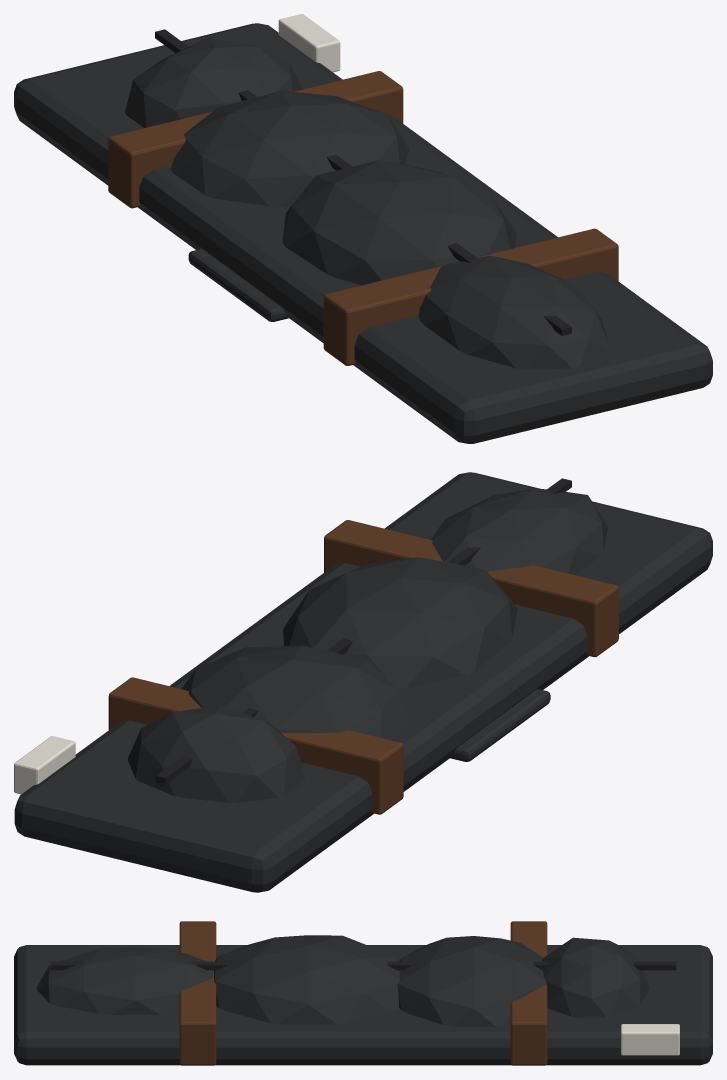
File: body_bag.glb
The picture shows the model from 3 angles, top to bottom: view 1: azimuth 30°, elevation 25°; view 2: azimuth 150°, elevation 25°; view 3: azimuth 270°, elevation 25°; orthographic projection. The views are drawn at different scales.
Parts seen in each view (by area): view 1: body_bag; view 2: body_bag; view 3: body_bag.
Part boxes in pixels (x1,y1,x2,y2): body_bag: (14,14,712,443); body_bag: (14,472,712,892); body_bag: (14,921,712,1065).
Size of what is drawn, in the model's own units: 0.69 by 0.2778 by 1.9.
Materials: 2 (2 with a texture image).
